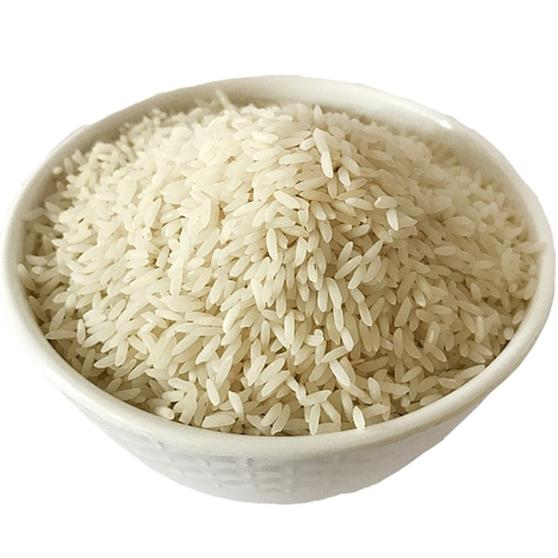rice: (112, 124, 431, 357)
